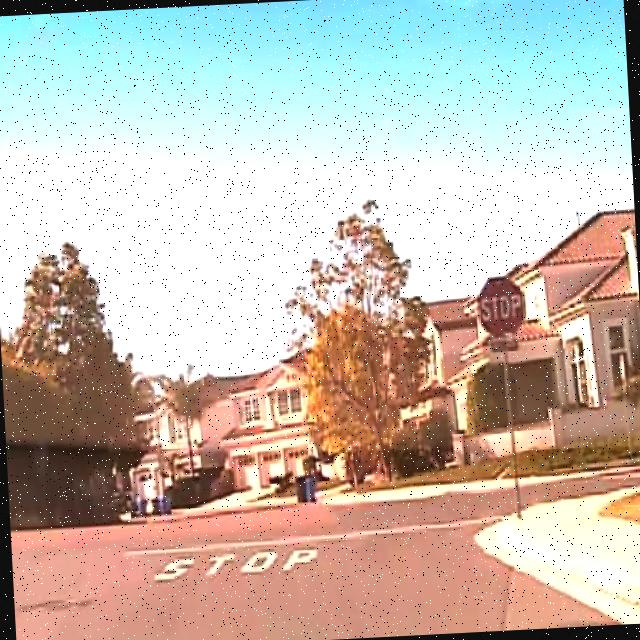Stop: (478, 277, 526, 341)
